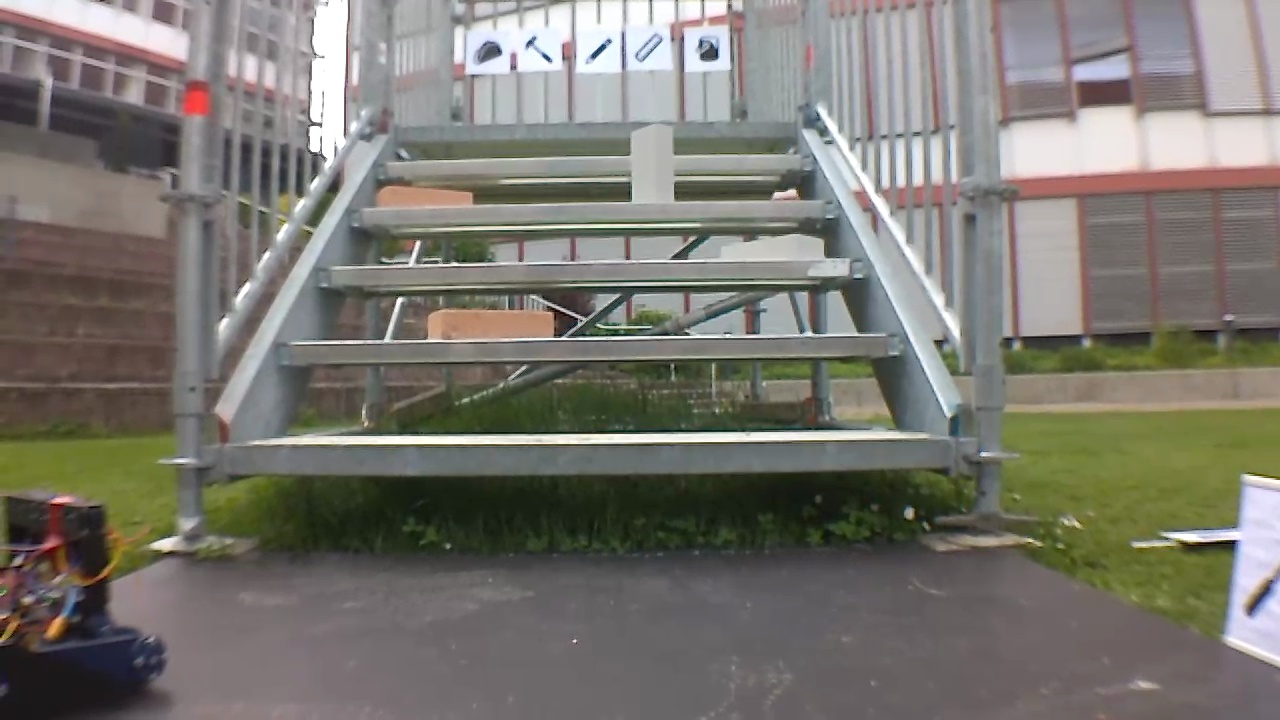brick: (428, 309, 552, 339), (631, 123, 671, 203), (376, 185, 473, 206)
bucket: (692, 31, 724, 64)
edge: (225, 434, 951, 475), (275, 335, 903, 362), (320, 258, 869, 283), (377, 154, 819, 175), (351, 201, 839, 219), (396, 121, 797, 140)
hammer: (522, 32, 557, 64)
pencil: (577, 34, 616, 66)
ruler: (630, 30, 667, 63)
stairs: (152, 2, 1025, 540)
steps: (215, 117, 961, 480)
taco: (470, 35, 505, 69)
